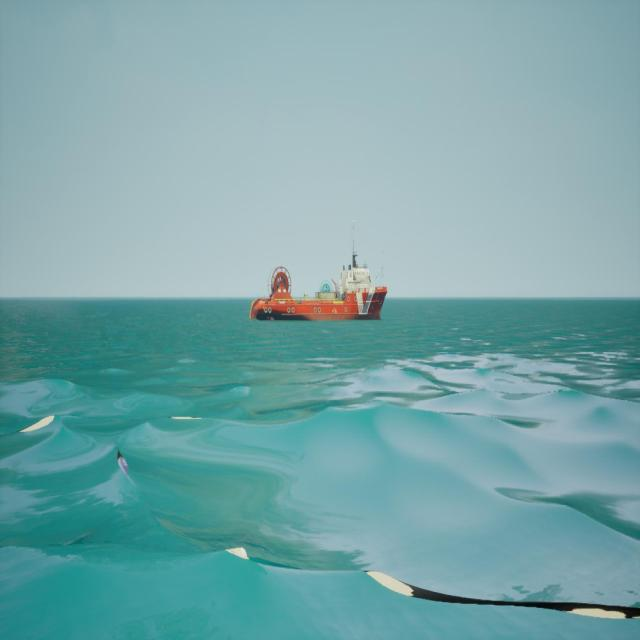tug boat: (251, 221, 390, 324)
